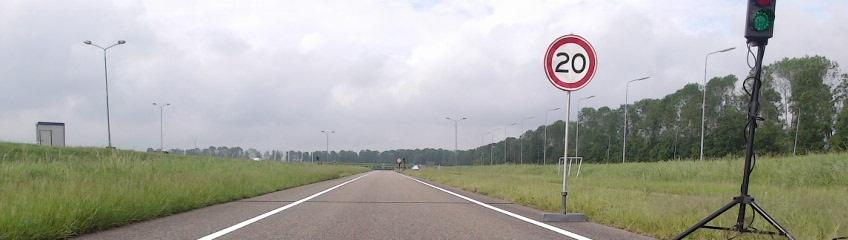Speed-limit-20km-h-: (543, 34, 599, 92)
TrafficLight-green: (747, 0, 774, 38)
